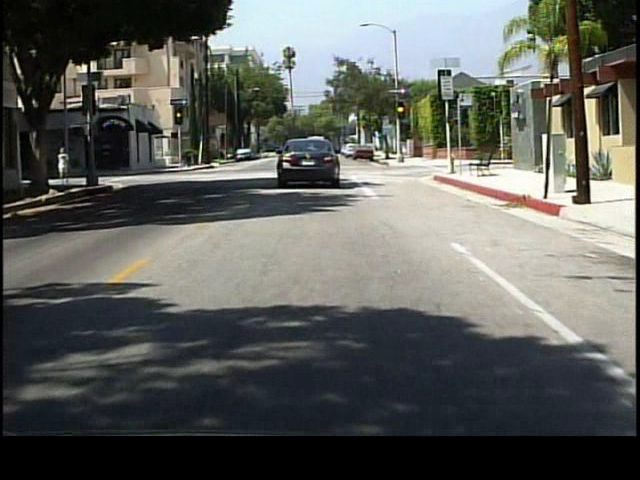person: (58, 144, 76, 189)
